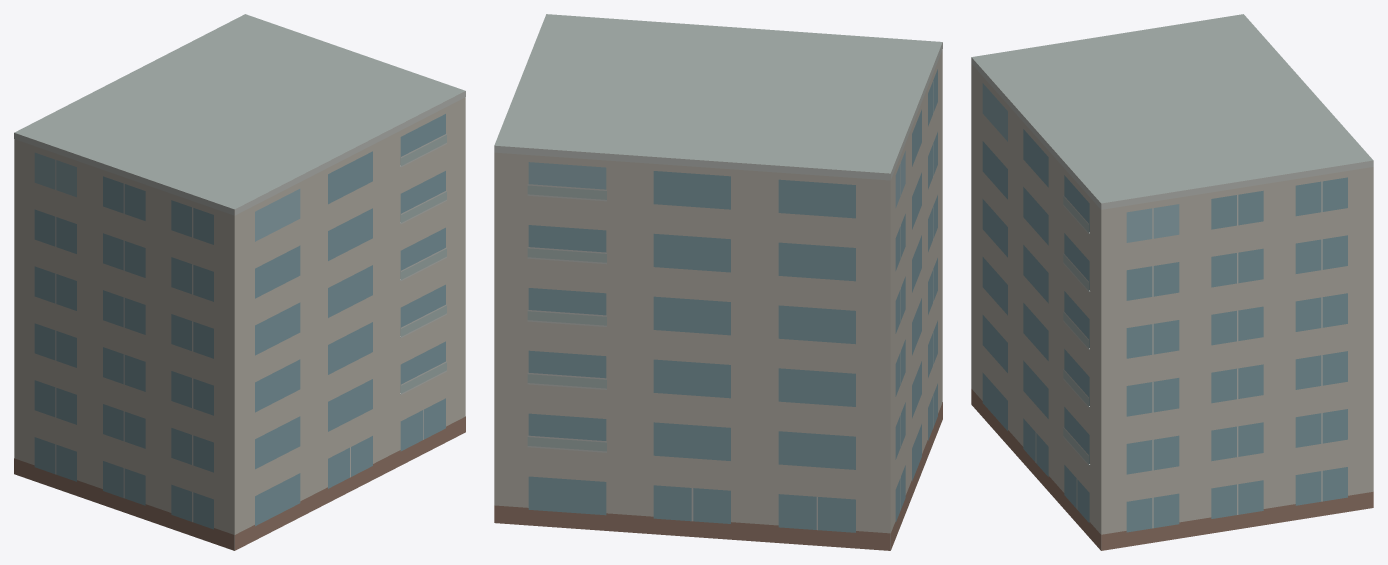
File: survey-upis-32534444.glb
The picture shows the model from 3 angles, left to right: view 1: azimuth 30°, elevation 25°; view 2: azimuth 150°, elevation 25°; view 3: azimuth 270°, elevation 25°; orthographic projection. The views are drawn at different scales.
Parts seen in each view (by area): view 1: survey-upis-32534444.tmp; view 2: survey-upis-32534444.tmp; view 3: survey-upis-32534444.tmp.
Boxes of the visible parts, left/top/right/bottom form: survey-upis-32534444.tmp: left=14, top=14, right=465, bottom=550; survey-upis-32534444.tmp: left=494, top=14, right=942, bottom=550; survey-upis-32534444.tmp: left=971, top=14, right=1373, bottom=550.
Size of the model in its own units: 15.57 by 13.3 by 13.97.
